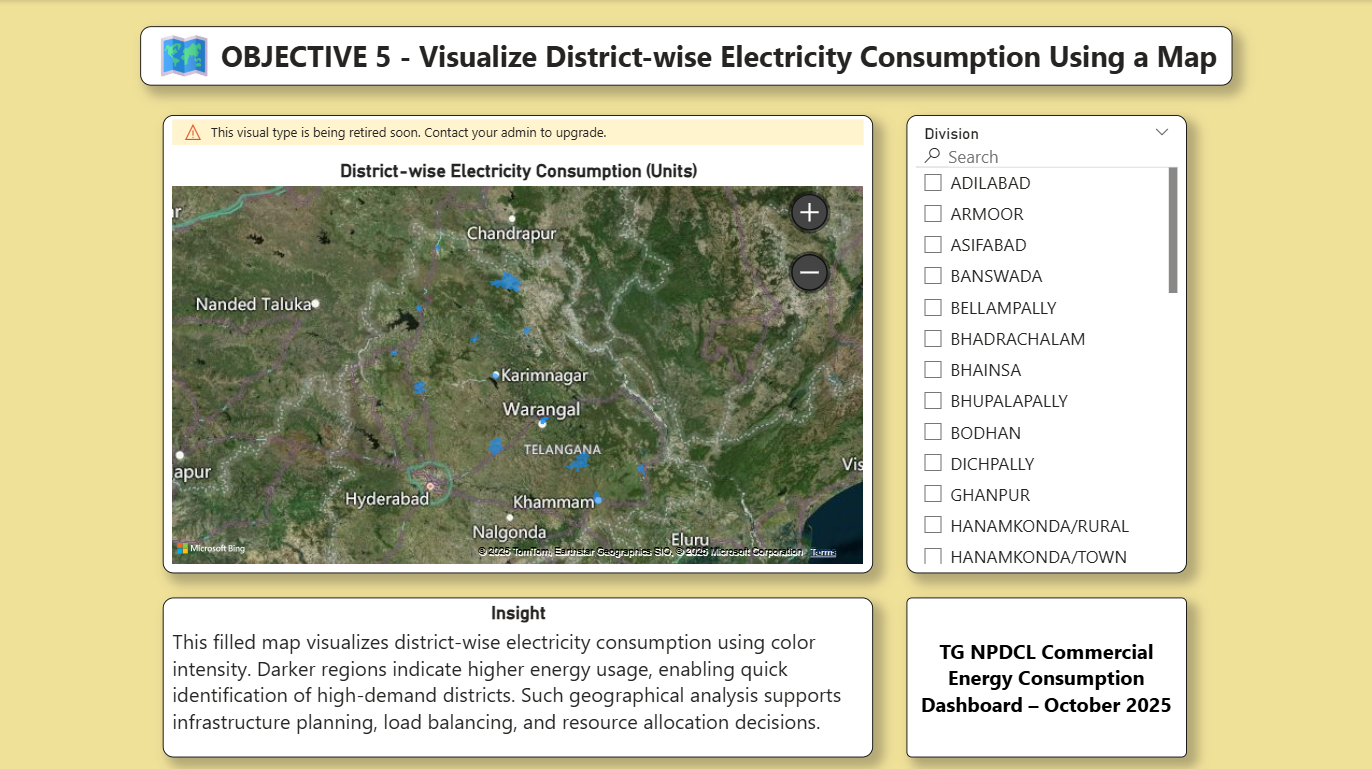

Layout of this report page (visuals, bound fields, positions):
{"tool":"powerbi","page":{"name":"Regional Map","canvas":[1280,720],"ordinal":6},"visuals":[{"type":"textbox","box":[131.2,25,1016.2,55],"z":0},{"type":"filledMap","title":"District-wise Electricity Consumption (Units)","fields":{"Category":["TG-NPDCL_consumption_detail_commercial_OCTOBER-2025.Circle"]},"box":[152.3,107,660.5,426.7],"z":1000},{"type":"slicer","fields":{"Values":["TG-NPDCL_consumption_detail_commercial_OCTOBER-2025.Division"]},"box":[844.2,107,260.5,426.7],"z":2000},{"type":"textbox","title":"Insight","box":[152.3,555.8,660.5,148.8],"z":3000},{"type":"actionButton","box":[844.2,555.8,260.5,148.8],"z":4000},{"type":"image","box":[147.1,31.6,50,41.9],"z":5000}]}

Visuals, with their boxes in screenshot pixels (x1, y1, x2, y2), scaled from the page's 1280x720 canvas onto the 1372x769 screenshot:
textbox: [left=141, top=27, right=1230, bottom=85]
"District-wise Electricity Consumption (Units)" filledMap: [left=163, top=114, right=871, bottom=570]
slicer - TG-NPDCL_consumption_detail_commercial_OCTOBER-2025.Division: [left=905, top=114, right=1184, bottom=570]
"Insight" textbox: [left=163, top=594, right=871, bottom=753]
actionButton: [left=905, top=594, right=1184, bottom=753]
image: [left=158, top=34, right=211, bottom=79]
